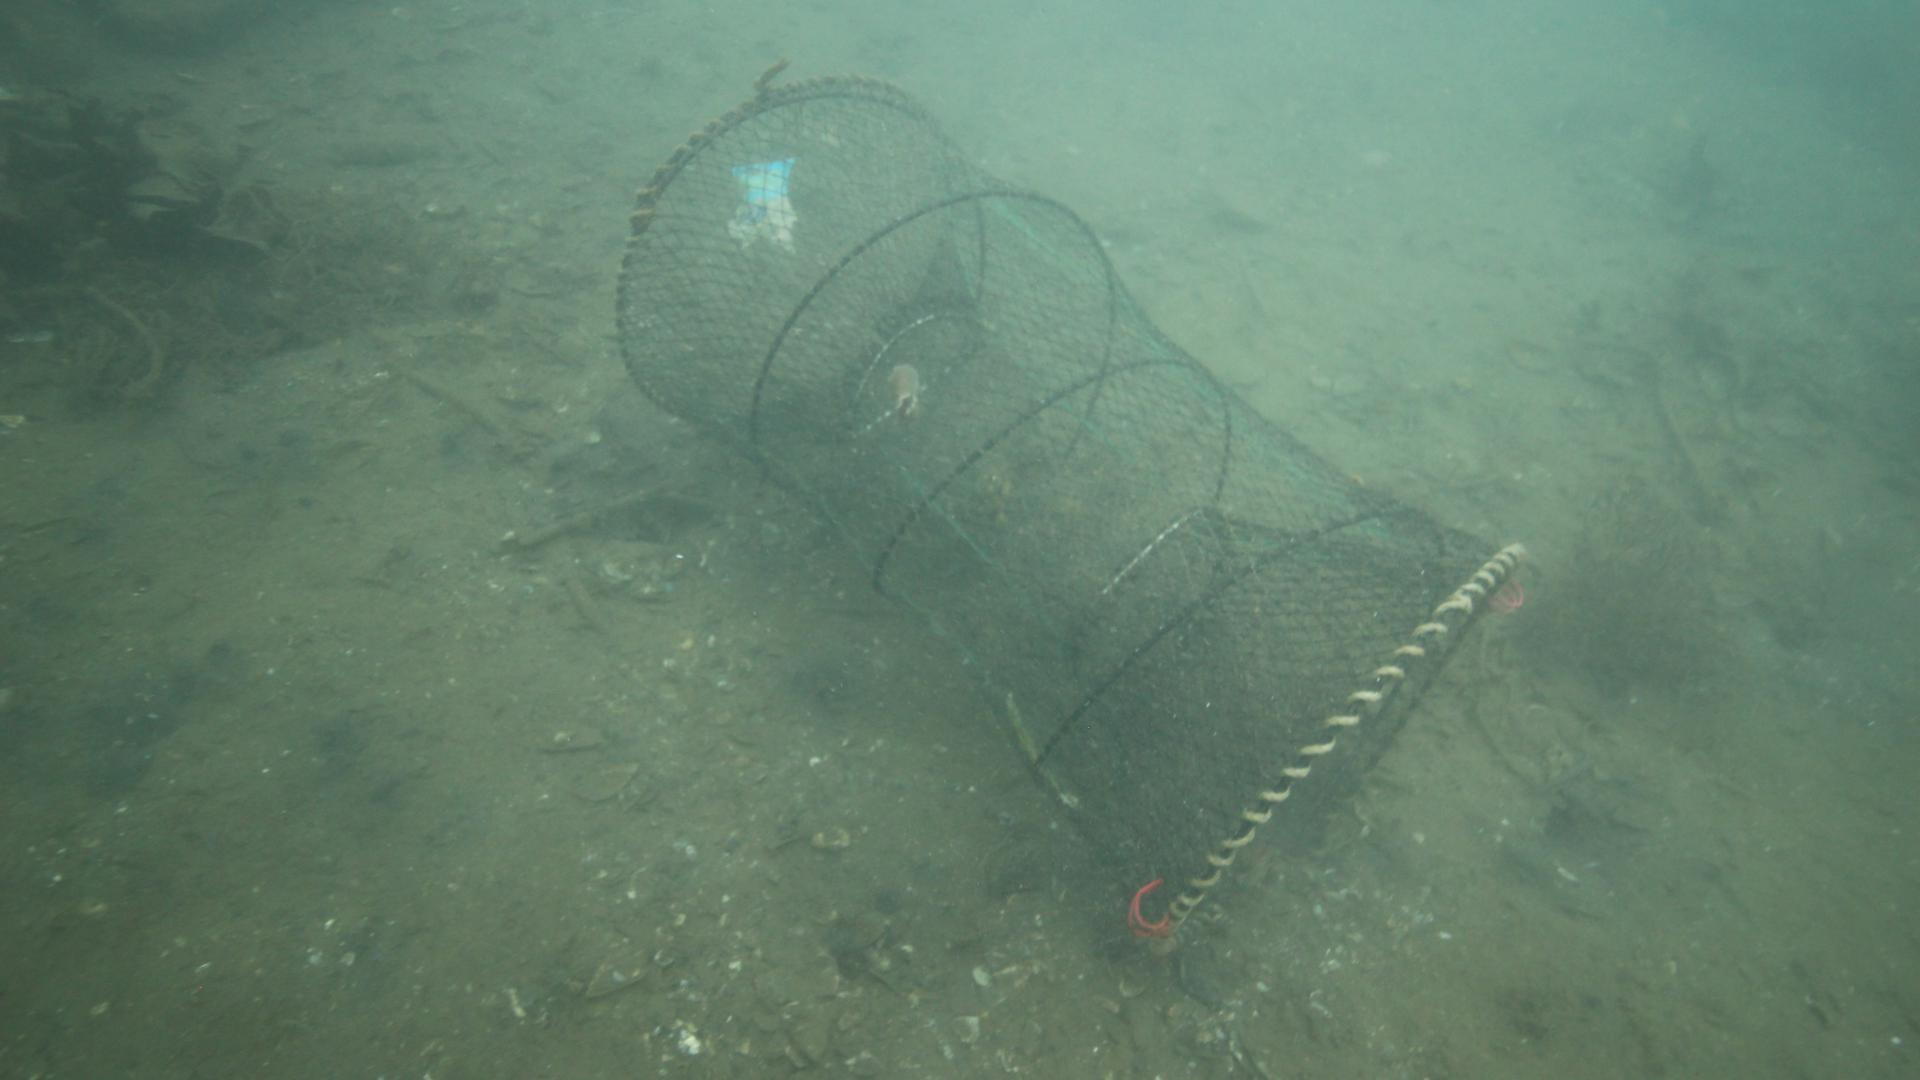spring fish trap: (612, 76, 1530, 957)
